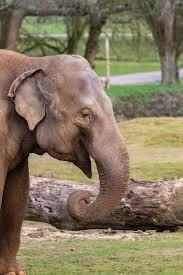elephant: (0, 49, 128, 274)
